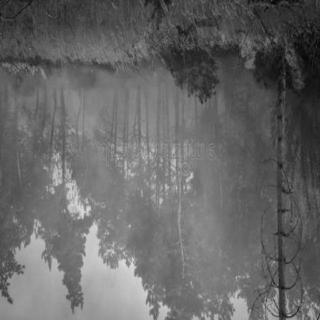Fire: (3, 60, 47, 79)
